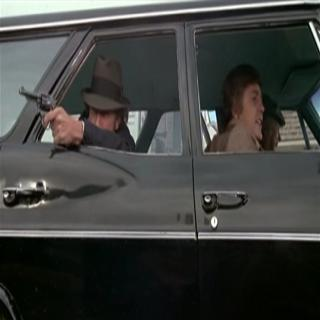gun: (15, 74, 62, 134)
